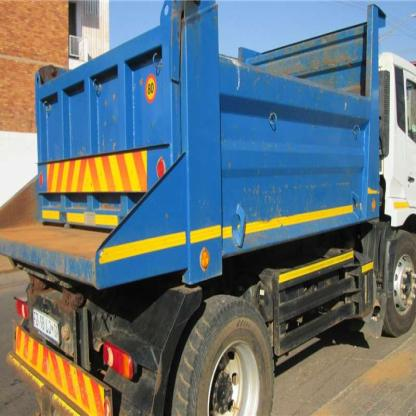dump_truck: (10, 6, 416, 416)
